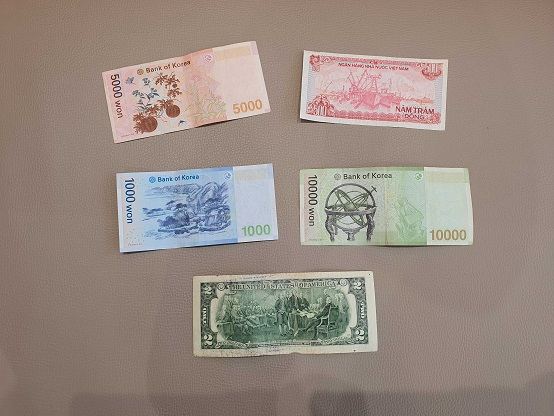10000won: (297, 165, 473, 247)
1000won: (115, 162, 279, 252)
2dollar: (194, 270, 377, 357)
5000won: (101, 38, 271, 142)
500vnd: (300, 52, 449, 132)
